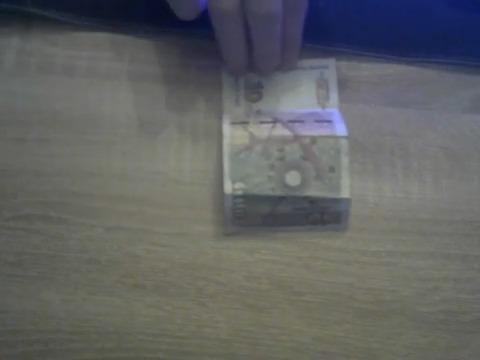10leva: (223, 62, 352, 230)
